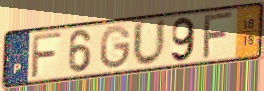6: (67, 28, 94, 75)
9: (169, 16, 198, 64)
F: (201, 10, 237, 61), (29, 31, 64, 81)
G: (99, 23, 133, 71)
U: (131, 17, 168, 69)
